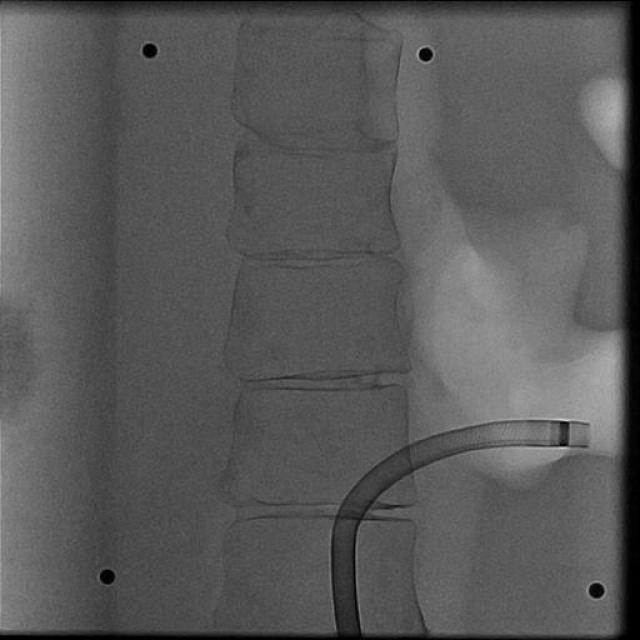bend: (332, 520, 358, 536)
entry: (337, 630, 361, 636)
marker: (560, 421, 570, 447)
tip: (584, 423, 592, 448)
